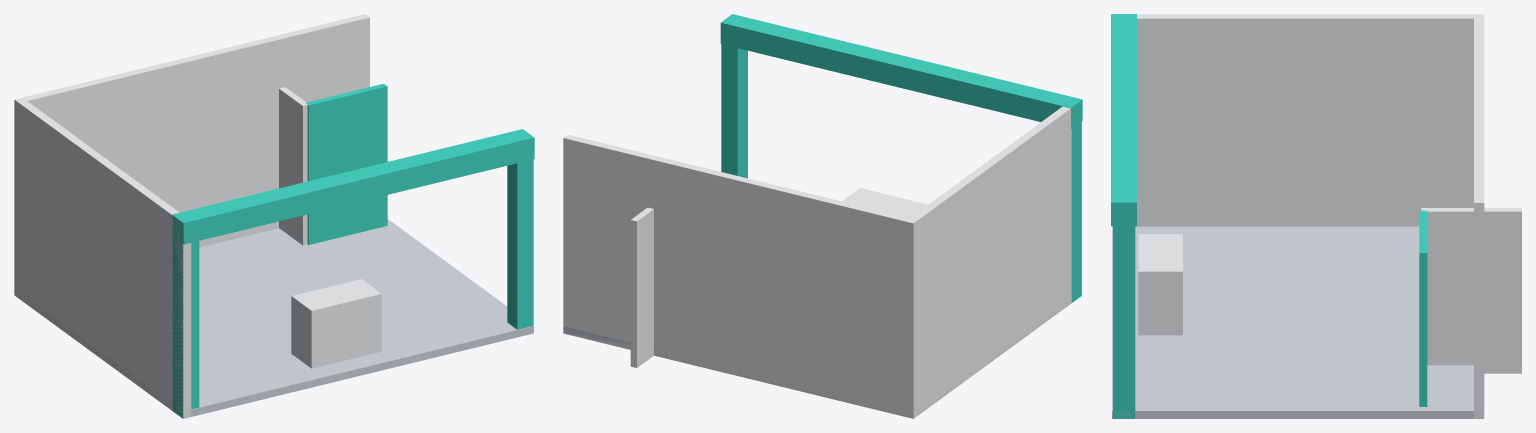
3 views of the same model, side by side, from view 1: azimuth 30°, elevation 25°; view 2: azimuth 150°, elevation 25°; view 3: azimuth 270°, elevation 25° (orthographic). The views are drawn at different scales.
Visible parts, largest first — view 1: Exhibition Booth Concept; view 2: Exhibition Booth Concept; view 3: Exhibition Booth Concept.
Boxes of the visible parts, left/top/right/bottom form: Exhibition Booth Concept: left=14, top=14, right=534, bottom=418; Exhibition Booth Concept: left=563, top=14, right=1082, bottom=418; Exhibition Booth Concept: left=1111, top=14, right=1521, bottom=418.
Size of the model in its own units: 6 by 3.2 by 5.52.
